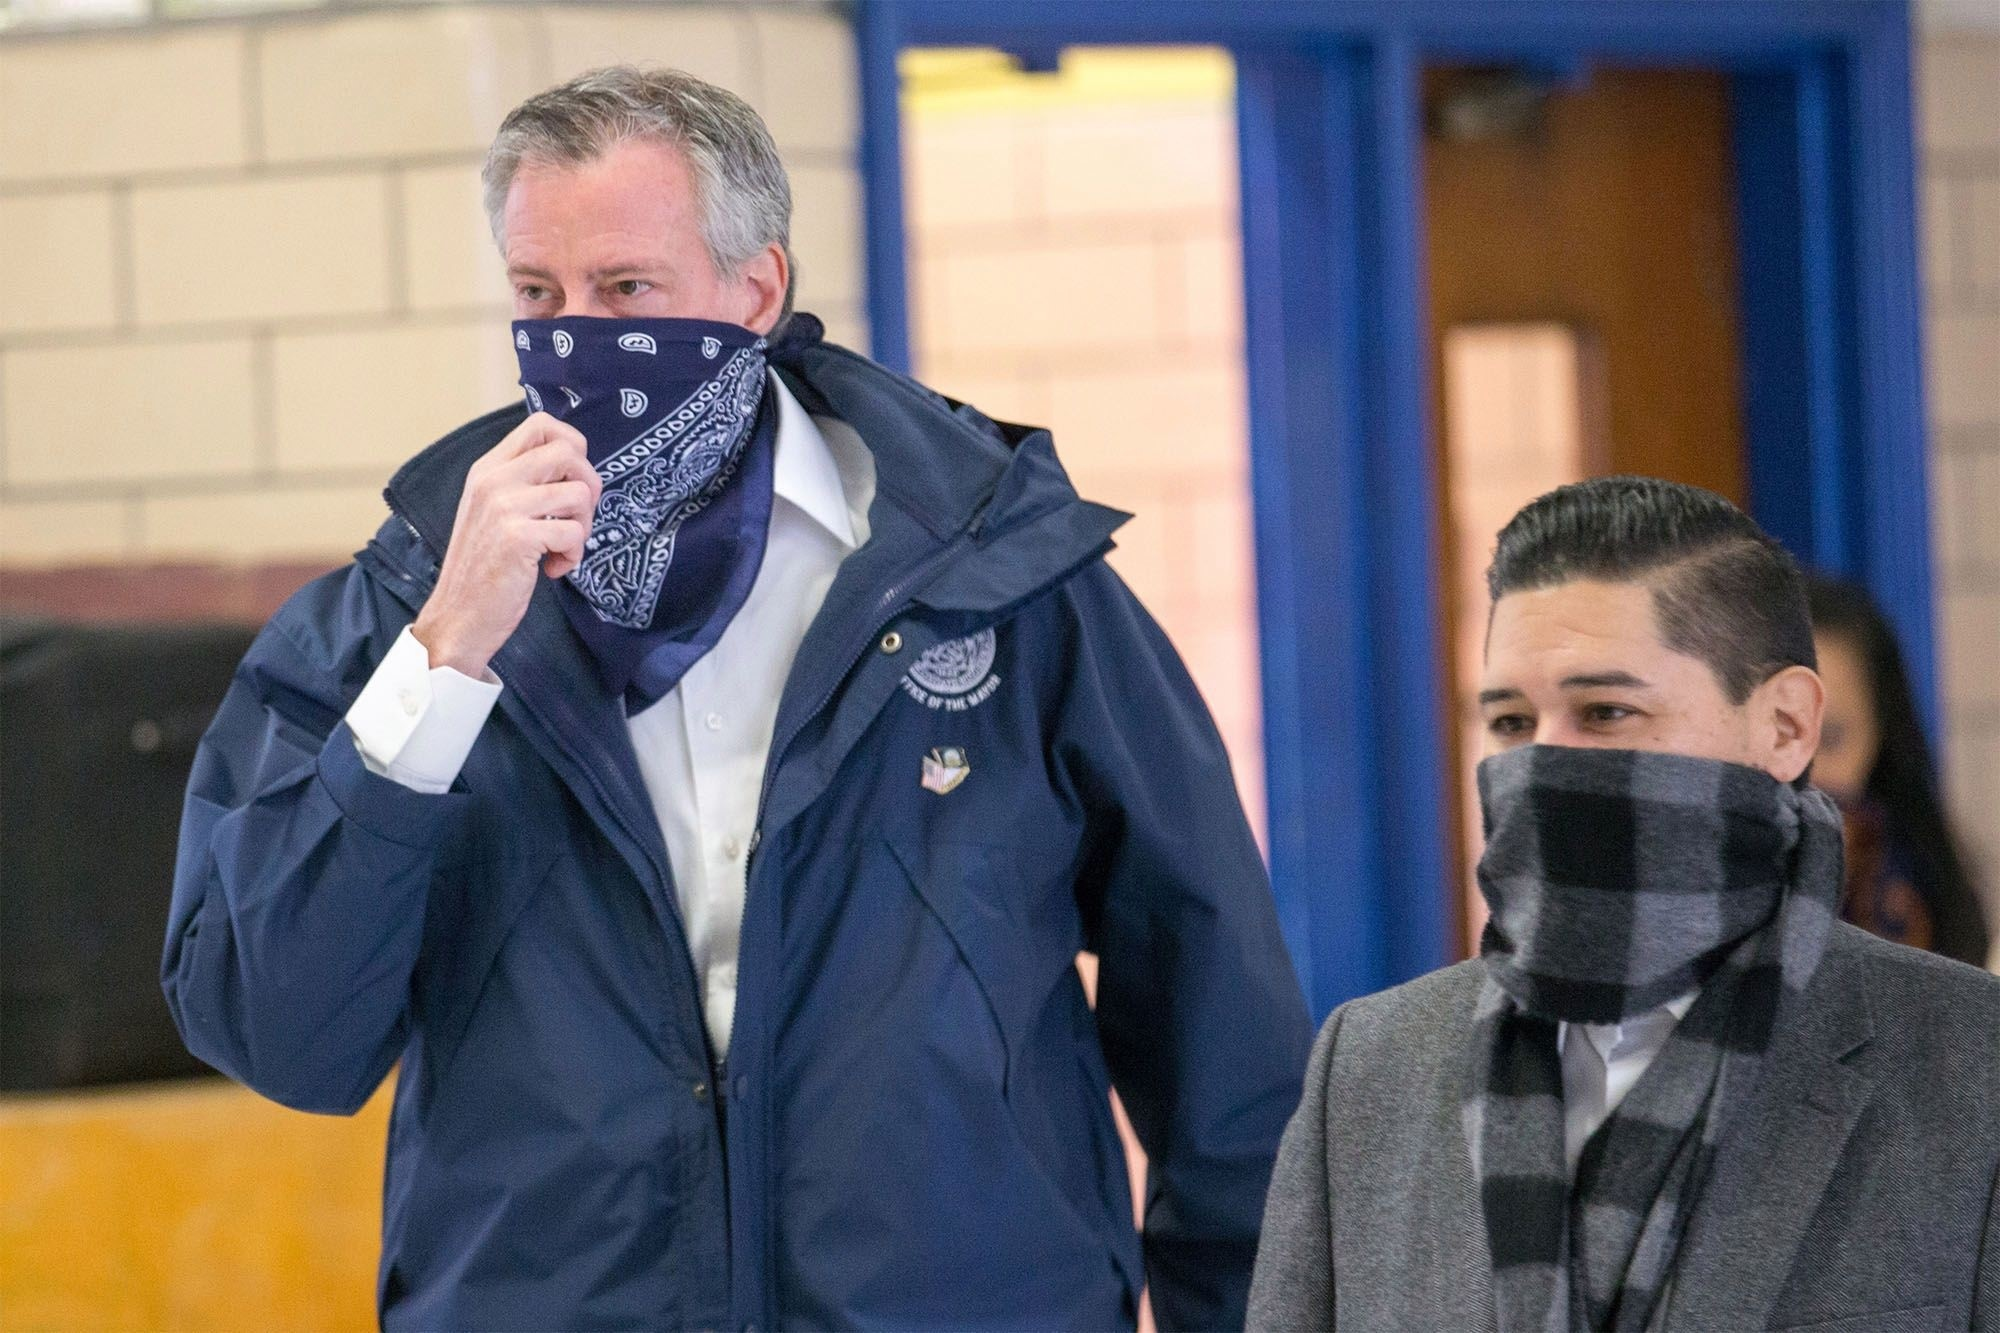face_with_mask: (1472, 490, 1827, 982), (491, 66, 810, 518)
